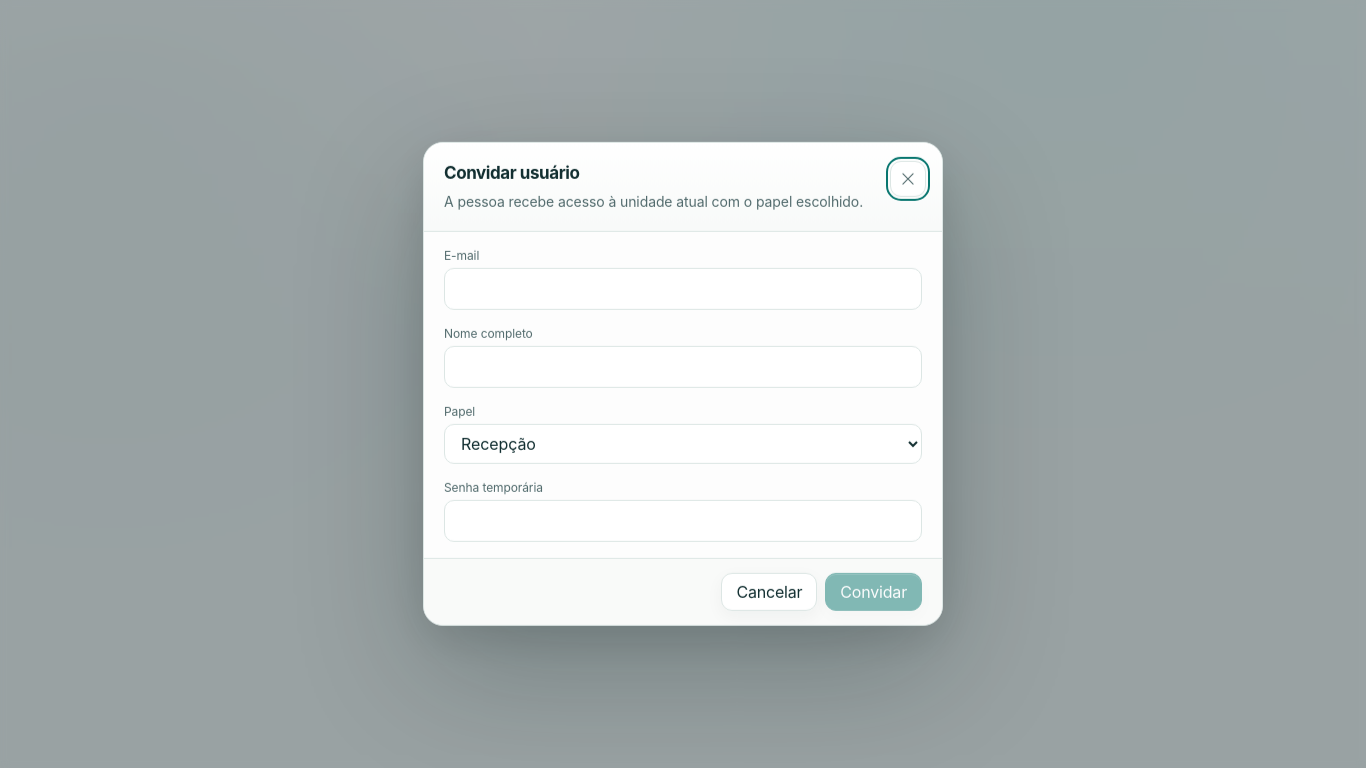
Scenario: ConvidarUsuario › exibe erro em caso de falha
Step 1. Type "dup@test.local" into the field labelled "E-mail" → (683, 289), box [444,268,922,310]
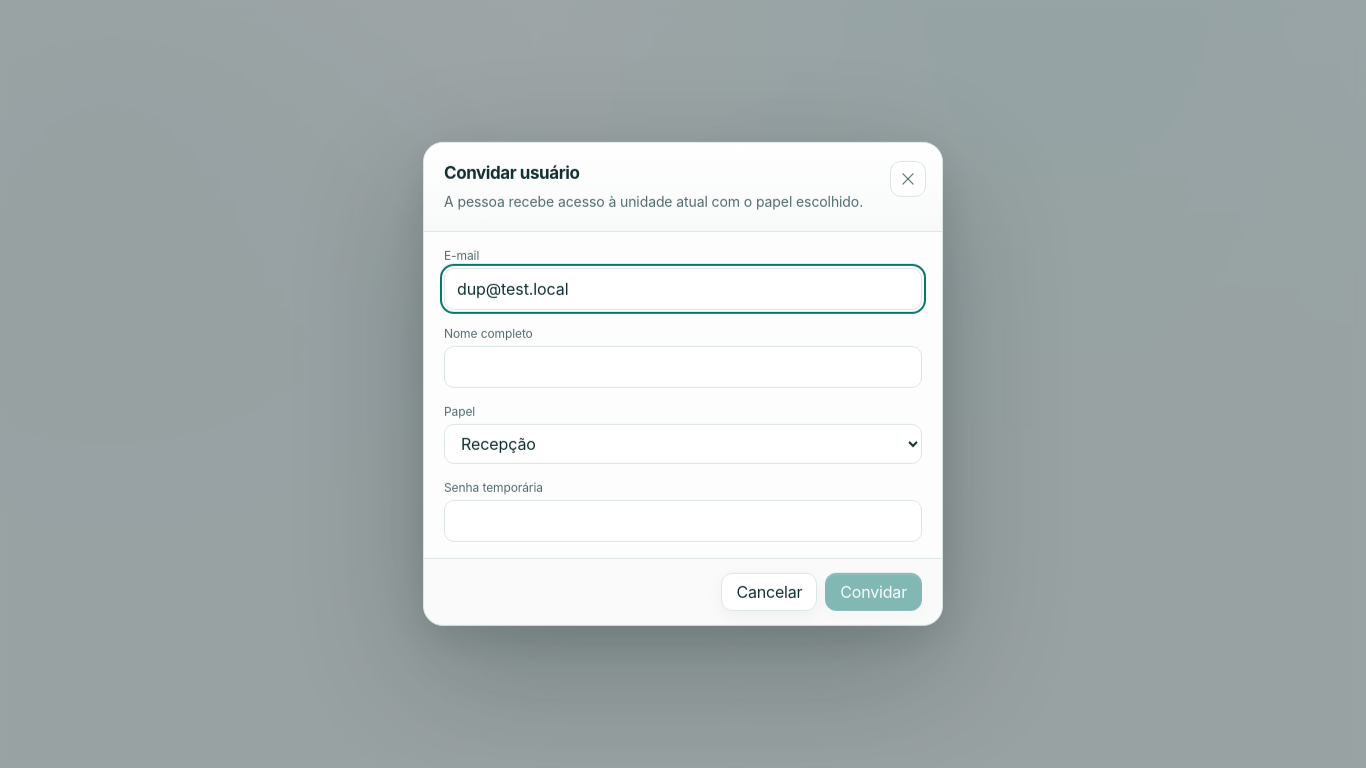
Step 2. Type "Dup User" into the field labelled "Nome completo" → (683, 367), box [444,346,922,388]
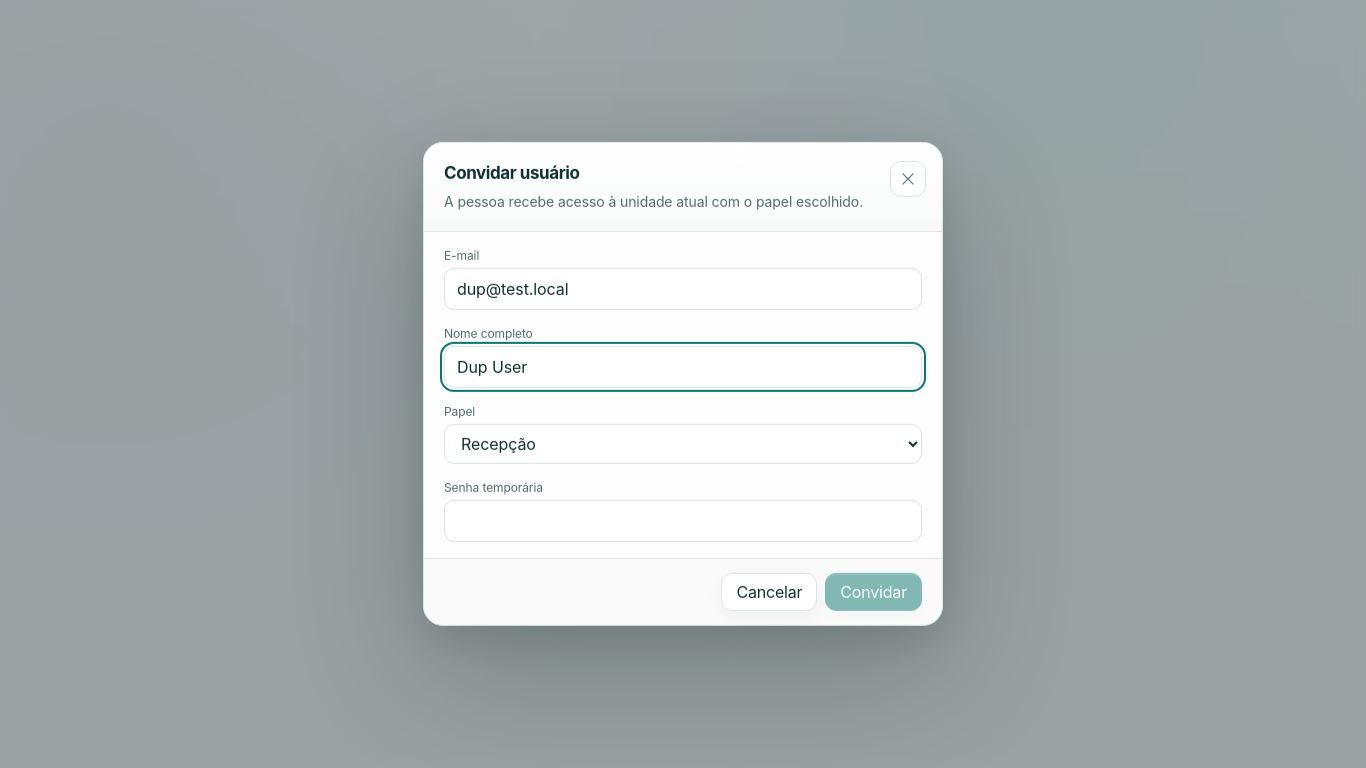
Step 3. Type "Temp@2026xx" into the field labelled "Senha temporária" → (683, 521), box [444,500,922,542]
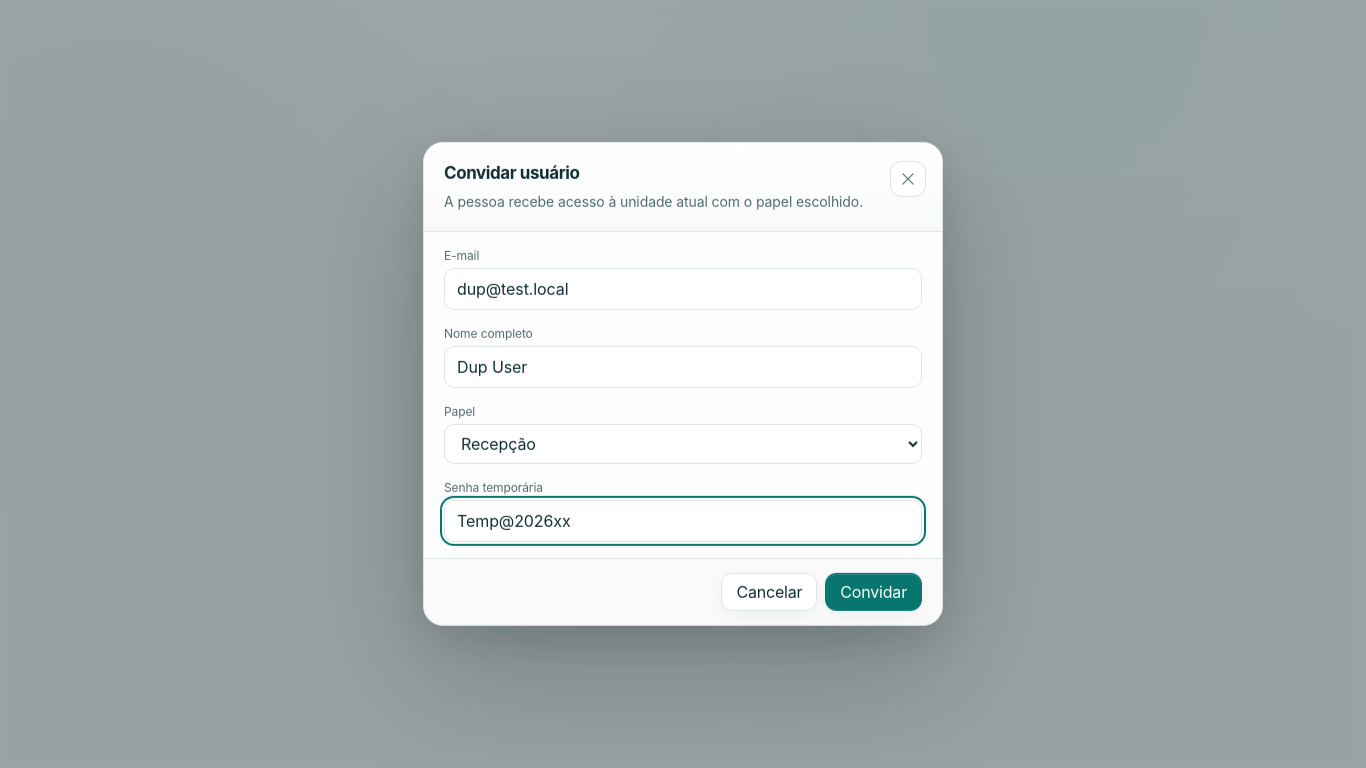
Step 4. Click the button "Convidar" → (874, 592), box [825,573,922,611]
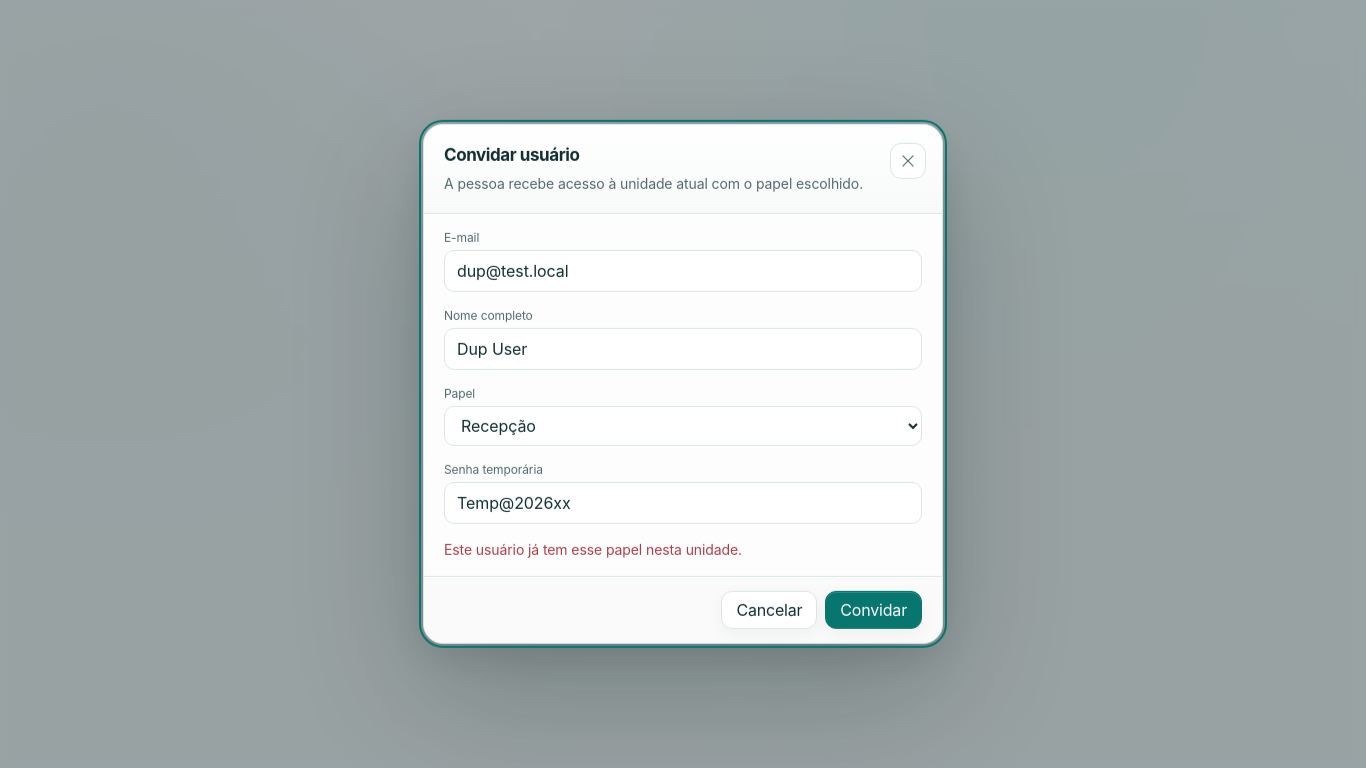
Result: the text "Este usuário já tem esse papel nesta unidade." is shown at [444,541,742,558]
